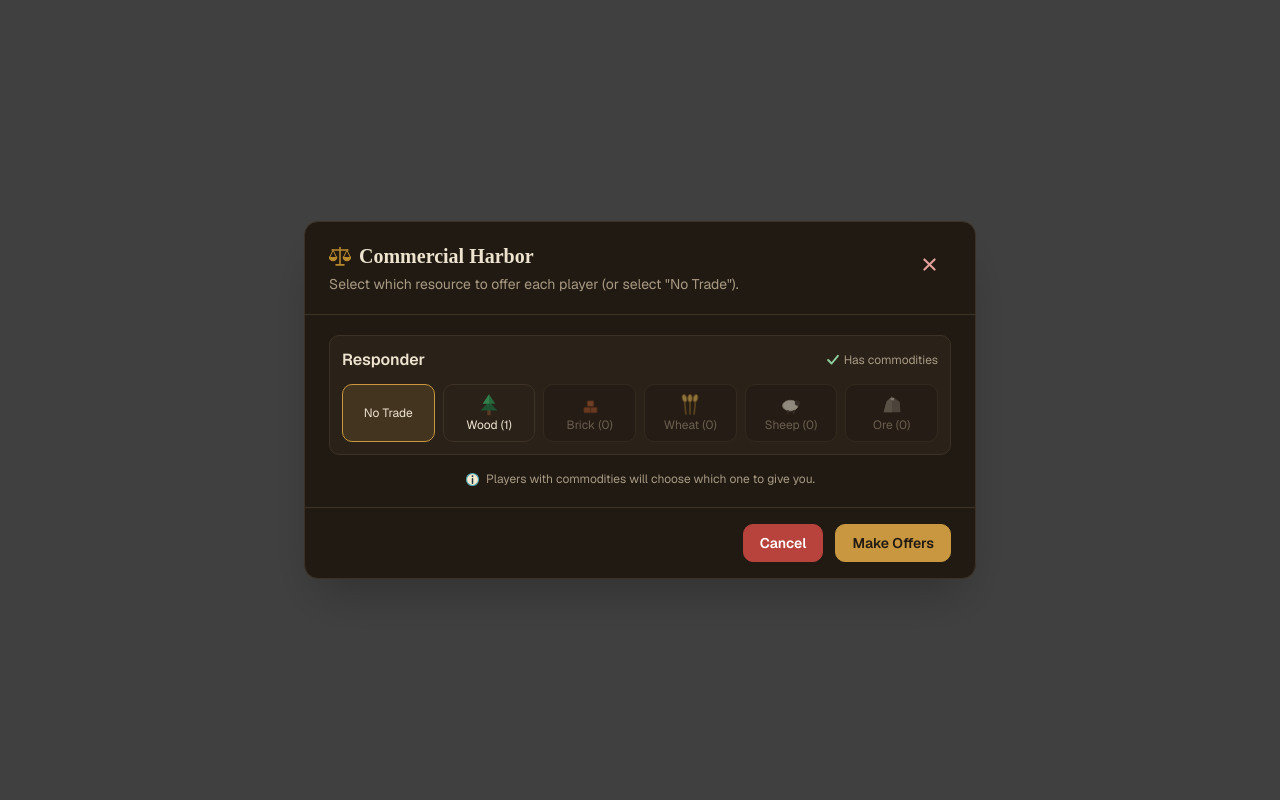
Commercial Harbor dialog error handling › announces an offer-submission Error message
The image size is (1280, 800).
Click the button "wood (1)" at point(489, 413), box left=443, top=384, right=535, bottom=442
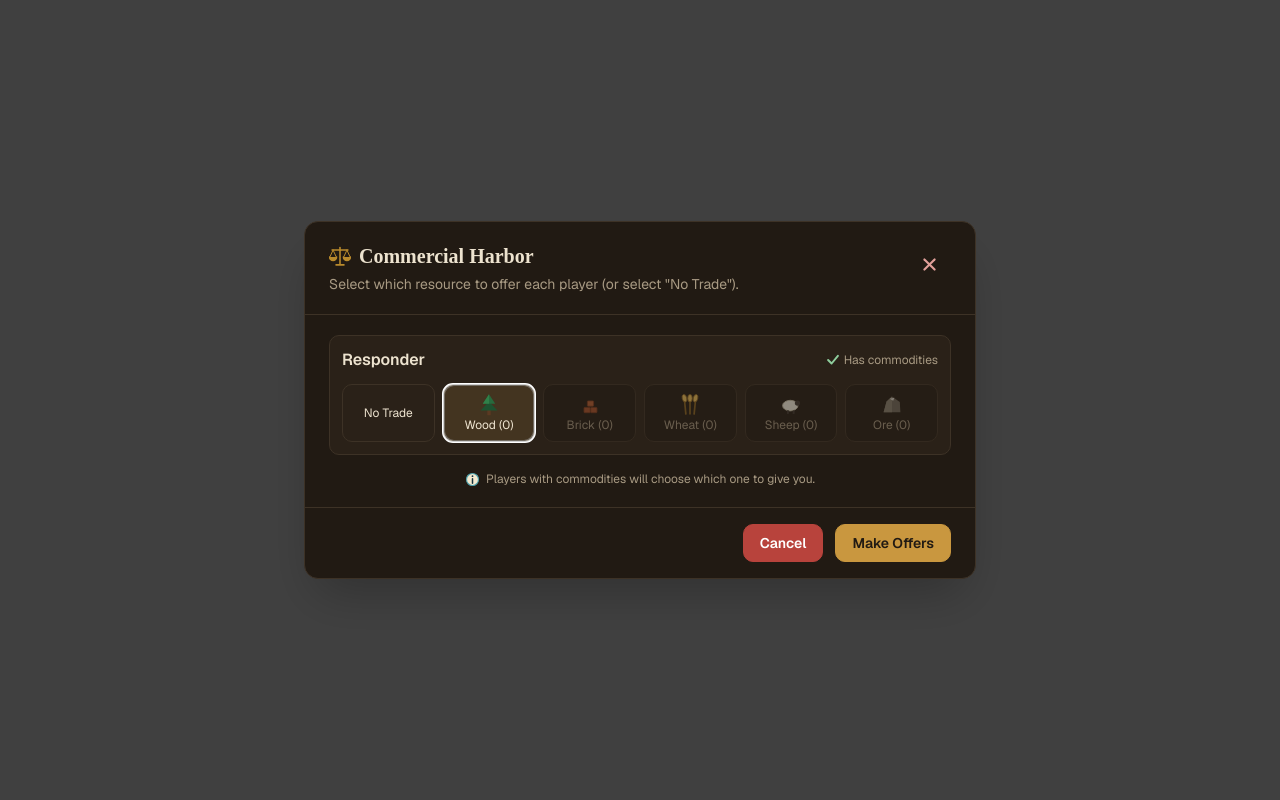
Click the button "Make Offers" at point(893, 543), box left=835, top=524, right=951, bottom=562
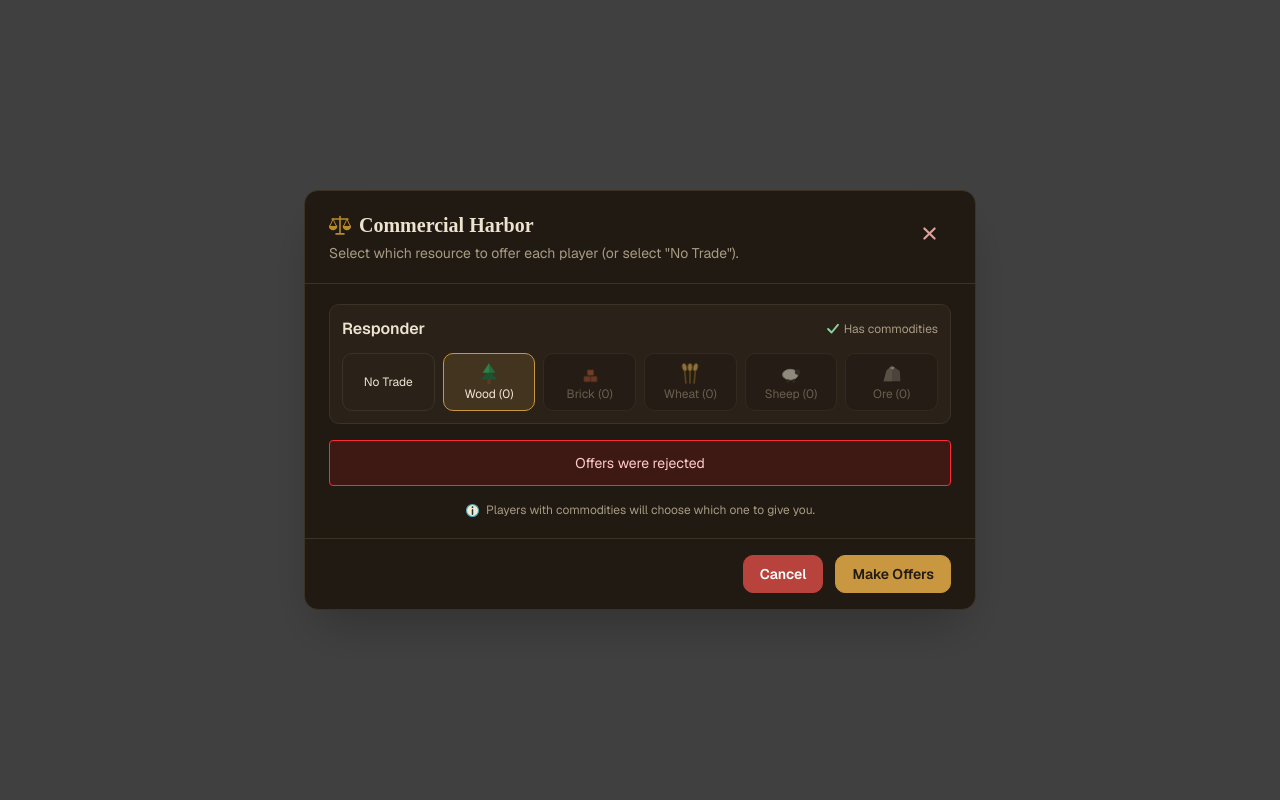
Expected: the message reads "Offers were rejected", left=575, top=454, right=705, bottom=472
